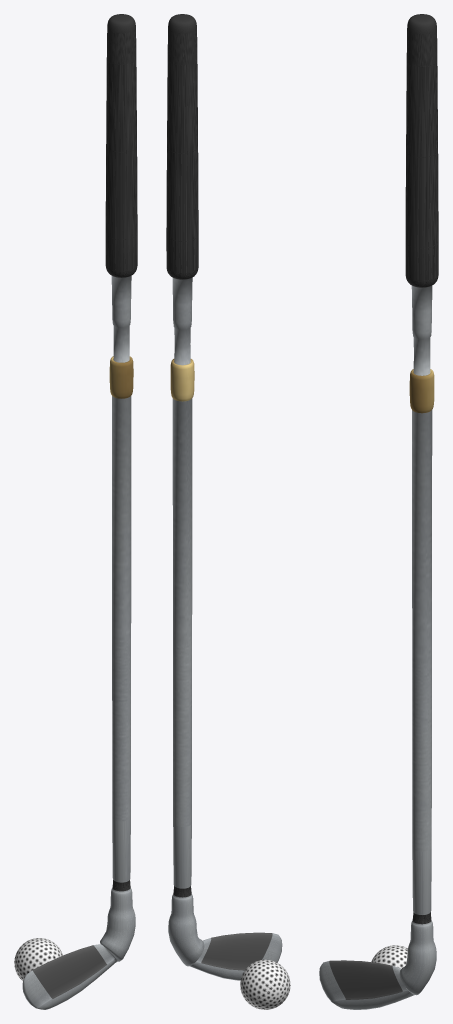
Rendered from Golf Club and Ball.FBX.
3 renders of one model, left to right at view 1: azimuth 30°, elevation 25°; view 2: azimuth 210°, elevation 25°; view 3: azimuth 330°, elevation 25°, orthographic. The views are drawn at different scales.
Parts seen in each view (by area): view 1: Club, ball; view 2: Club, ball; view 3: Club, ball.
Part boxes in pixels (<box>): Club: <box>22,14,137,1009</box>; ball: <box>14,938,62,980</box>; Club: <box>166,14,282,980</box>; ball: <box>240,959,290,1009</box>; Club: <box>319,14,438,1009</box>; ball: <box>371,945,407,968</box>.
Bounding box in the file's own units: 40.01 × 332 × 30.07.
Materials: 5 (4 with a texture image).
